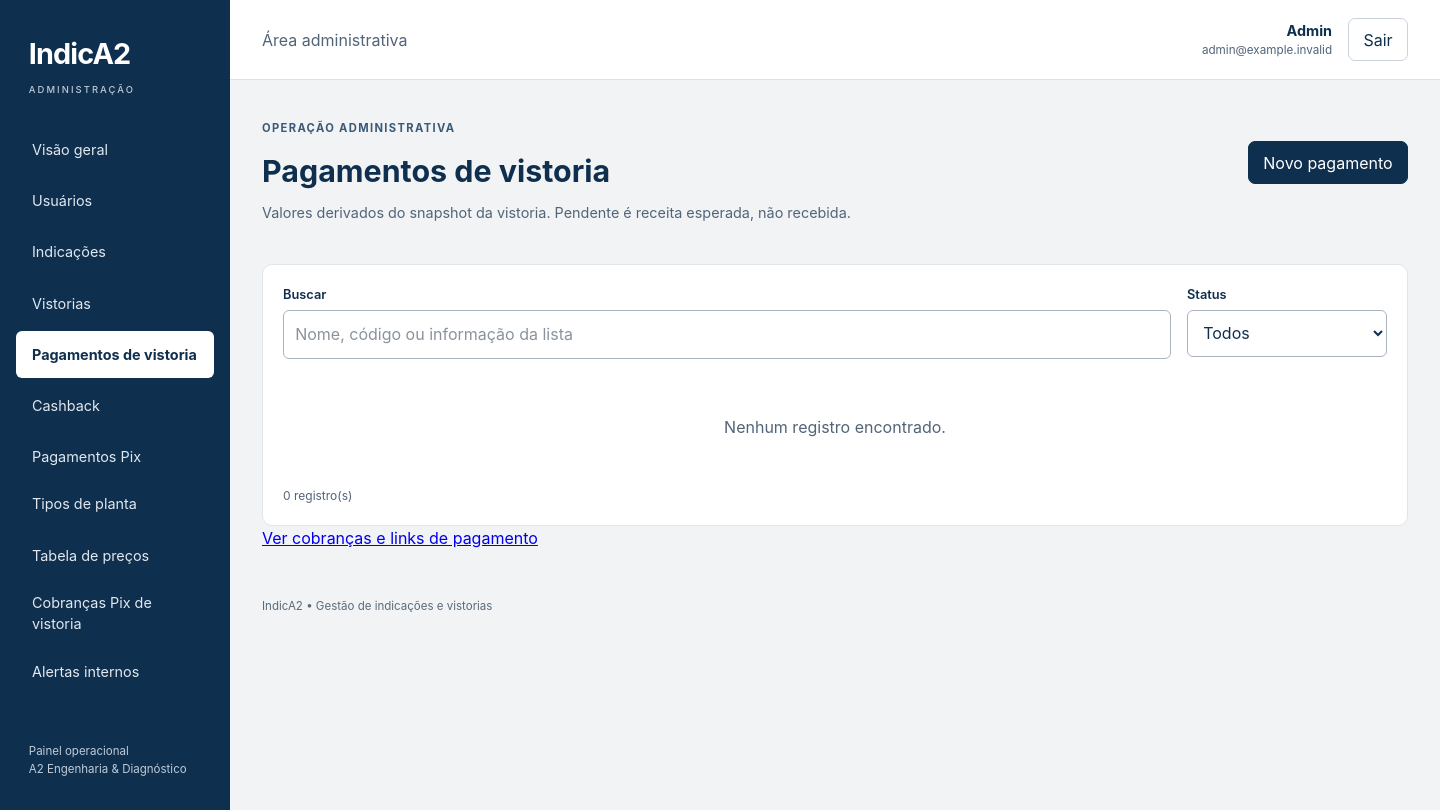
Test case: pagamento não possui campo de valor e legado fica indisponível
Click the button "Novo pagamento" at (1328, 163), box [1248,141,1408,184]
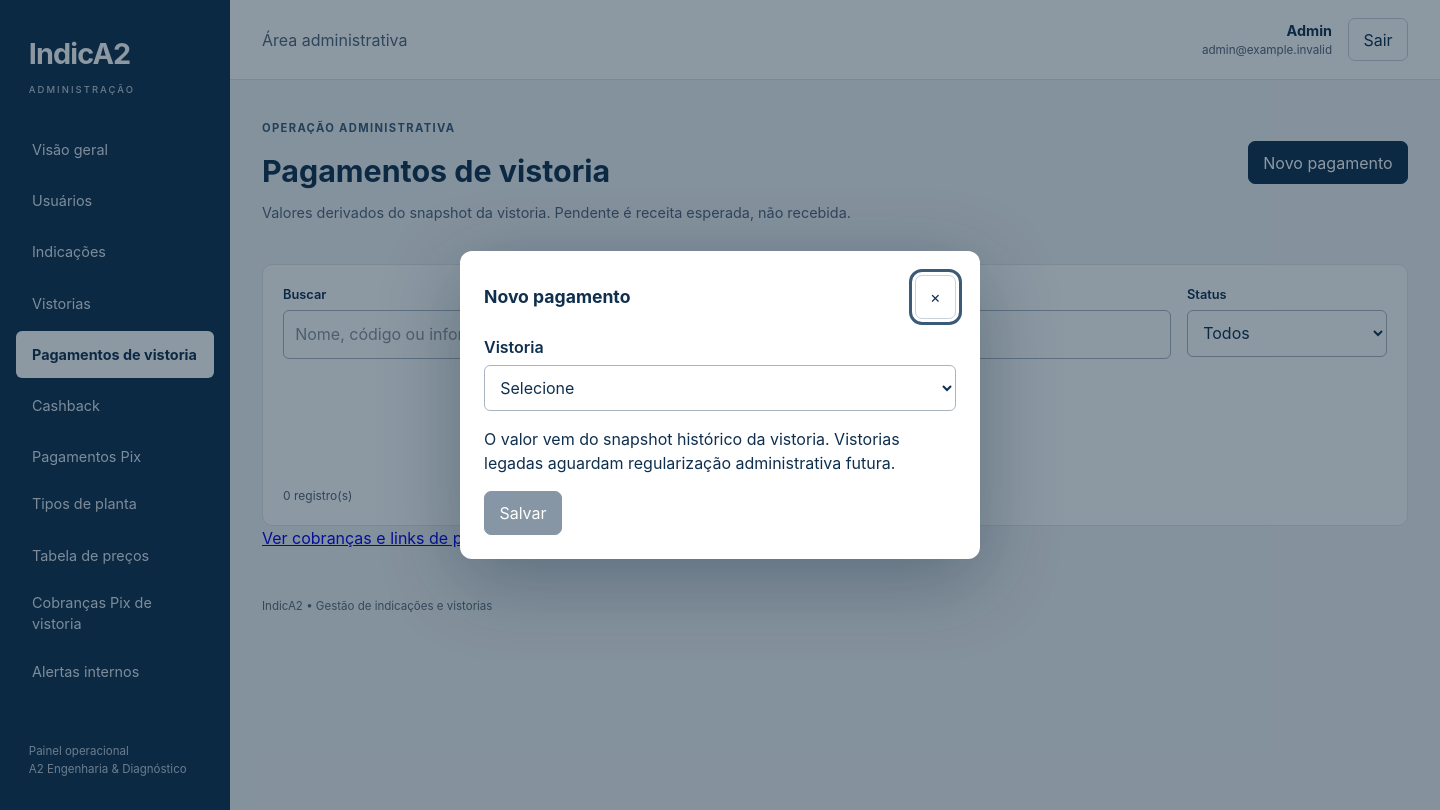
Result: the dropdown labelled "Vistoria" is shown at [484,365,956,411]
Result: the button "Salvar" is disabled at [484,491,562,535]
